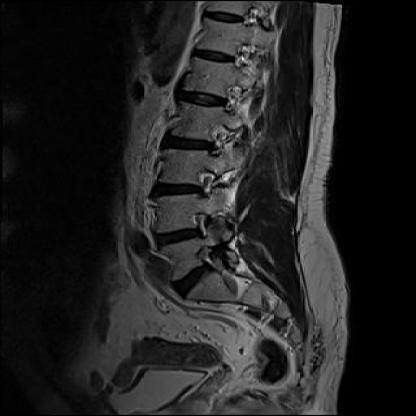Disc Bulgerotation: (150, 227, 204, 249), (163, 134, 217, 155), (149, 180, 205, 200)
Disc Protrusionrotation: (167, 265, 218, 292)
